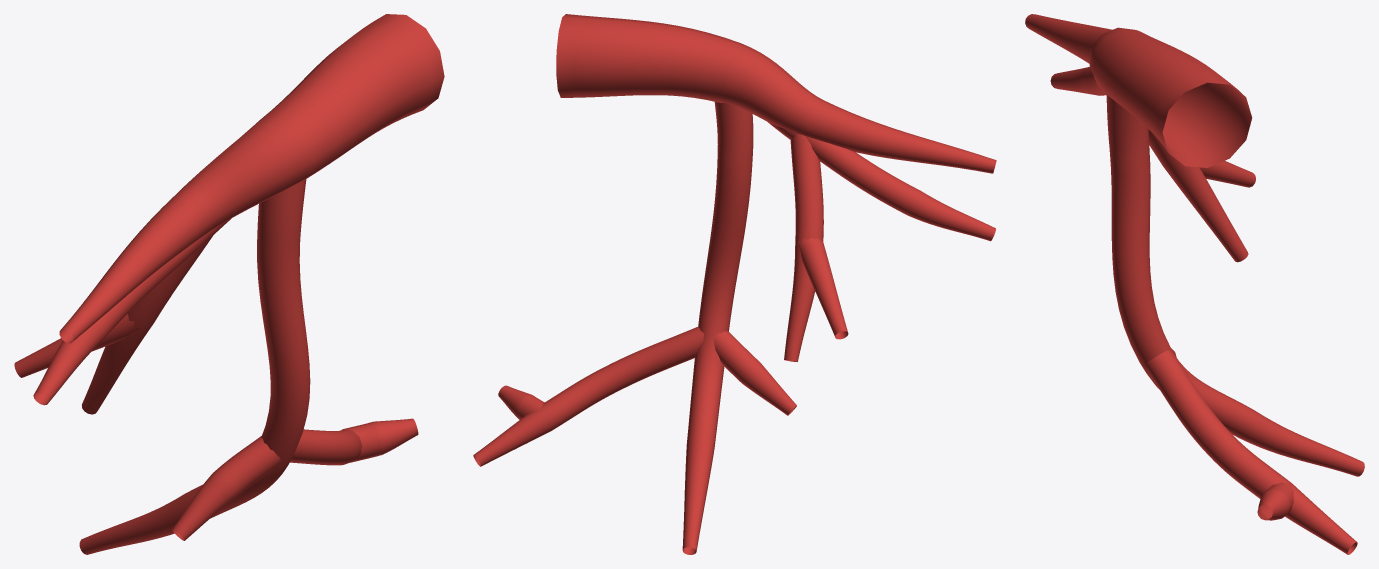
3 views of the same model, side by side, from view 1: azimuth 30°, elevation 25°; view 2: azimuth 150°, elevation 25°; view 3: azimuth 270°, elevation 25° (orthographic). The views are drawn at different scales.
Parts seen in each view (by area): view 1: 右肺前段动脉; view 2: 右肺前段动脉; view 3: 右肺前段动脉.
Boxes of the visible parts, x1,y1,x2,y2 form: 右肺前段动脉: (14,14,444,554); 右肺前段动脉: (473,14,996,554); 右肺前段动脉: (1025,14,1364,554).
Bounding box in the file's own units: 0.0975 × 0.102 × 0.0628.
